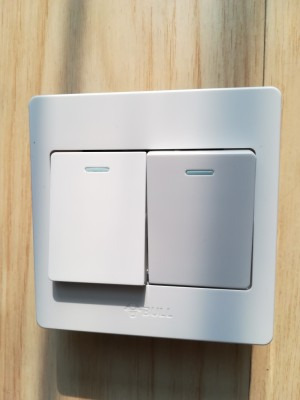switch: (140, 144, 265, 296), (44, 147, 150, 293)
